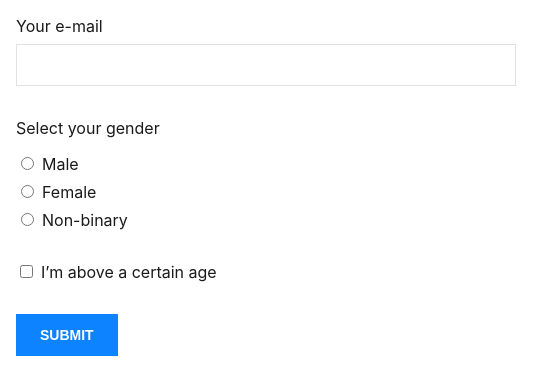
Form.jsx › invalid form › should display an error for invalid email
Step 1. Type "foo" into the field labelled "Your e-mail" → (266, 65), box [16,44,516,86]
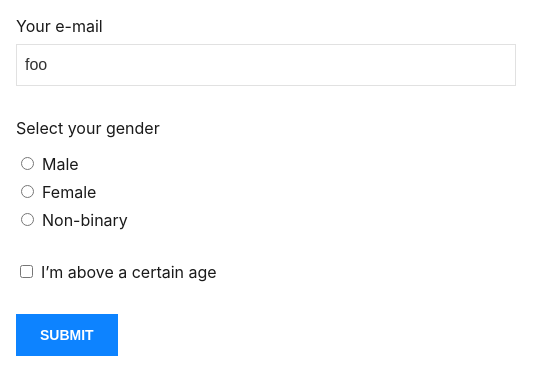
Step 2. Submit the form with test id "form"
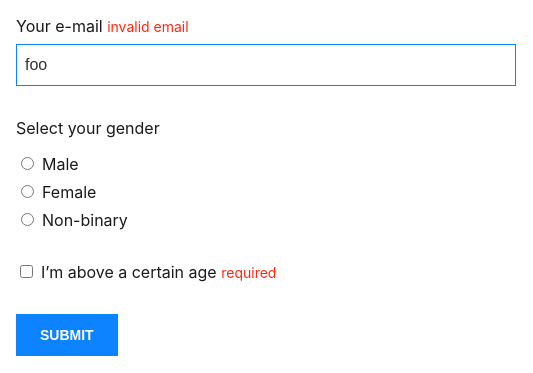
Expected: the text "invalid email" is shown, [107,18,189,35]
